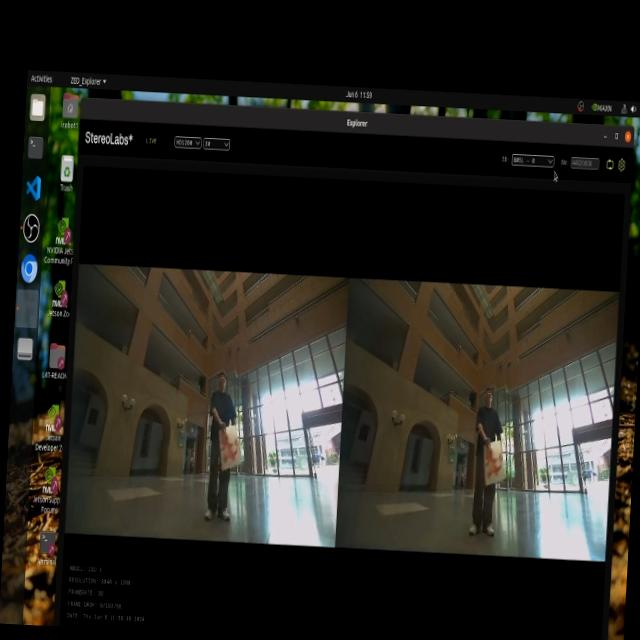red: (480, 442, 514, 490), (218, 424, 240, 464)
